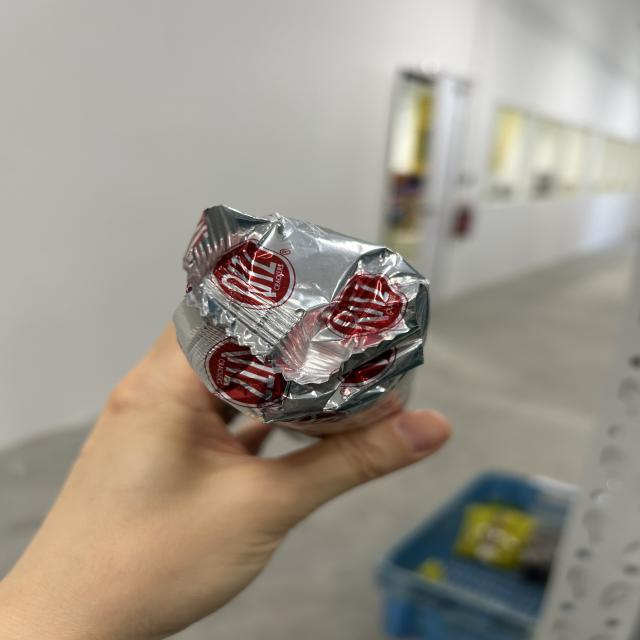object_name: (193, 210, 400, 422)
